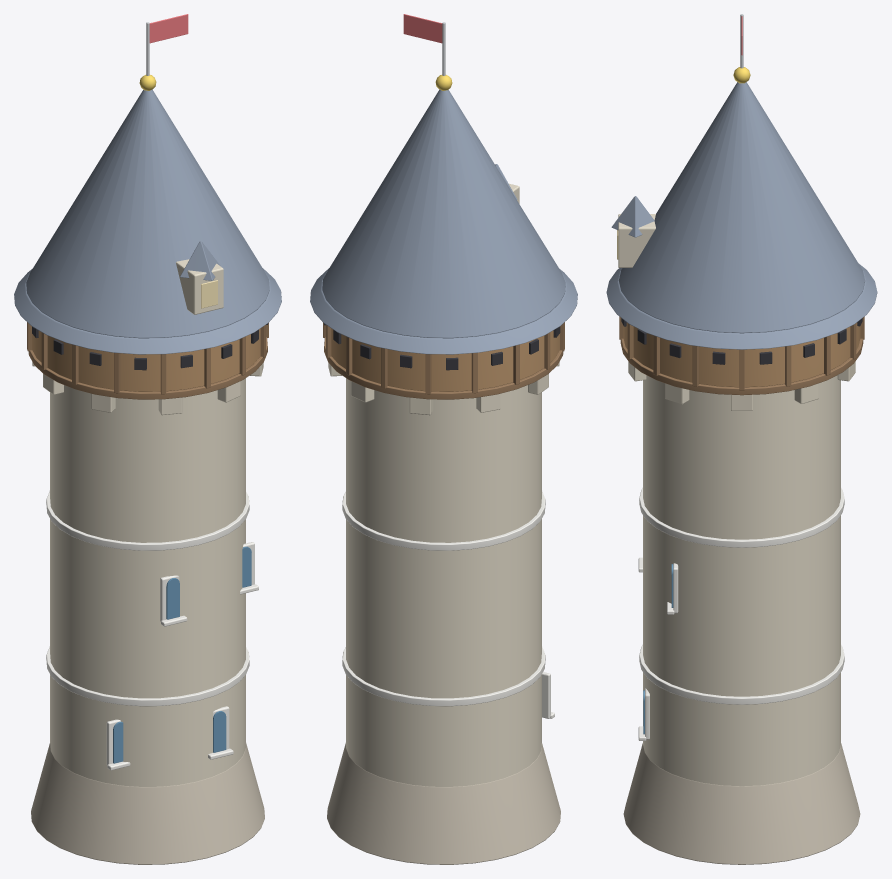
Rendered from castle_tower.fbx.
3 renders of one model, left to right at view 1: azimuth 30°, elevation 25°; view 2: azimuth 150°, elevation 25°; view 3: azimuth 270°, elevation 25°, orthographic.
Parts seen in each view (by area): view 1: Visual; view 2: Visual; view 3: Visual.
Boxes of the visible parts, x1,y1,x2,y2 form: Visual: (14, 14, 281, 864); Visual: (310, 14, 577, 864); Visual: (606, 14, 877, 864).
Size of what is drawn, in the model's own units: 1095 by 3570 by 1095.
